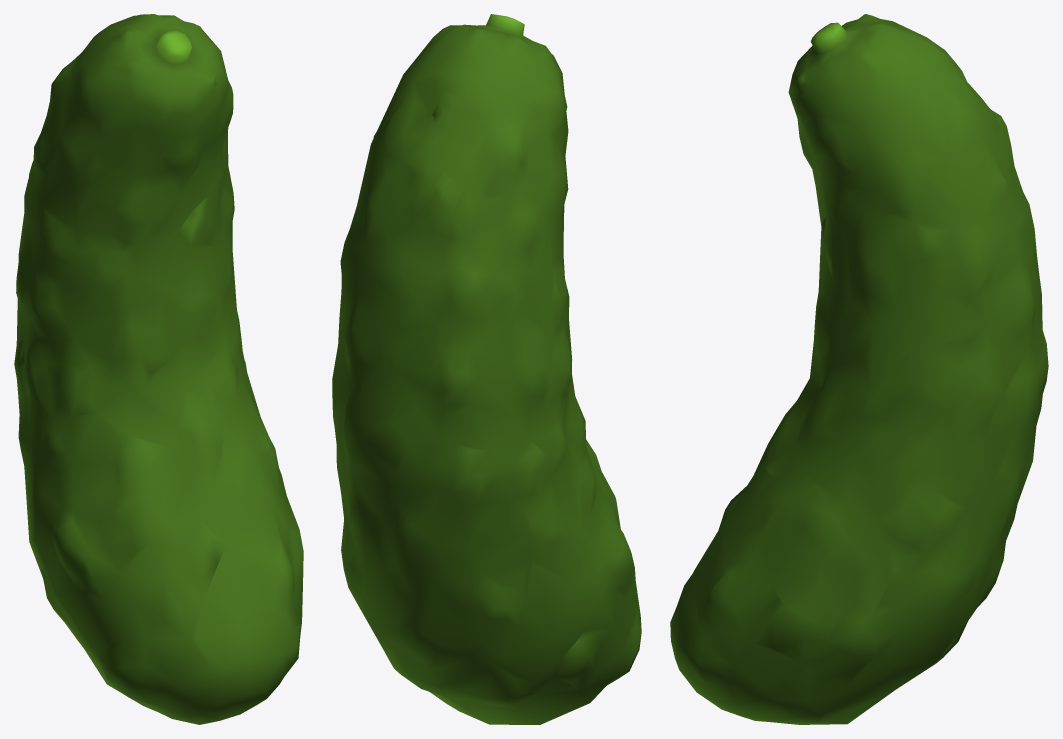
The model's file is Pickle.fbx.
The picture shows the model from 3 angles, left to right: view 1: azimuth 30°, elevation 25°; view 2: azimuth 150°, elevation 25°; view 3: azimuth 270°, elevation 25°; orthographic projection. The views are drawn at different scales.
Visible parts, largest first — view 1: Pickle; view 2: Pickle; view 3: Pickle.
Boxes of the visible parts, bbox=[...] form: Pickle: bbox=[14, 14, 303, 724]; Pickle: bbox=[332, 14, 641, 724]; Pickle: bbox=[670, 14, 1048, 724].
Size of the model in its own units: 4.68 by 12.63 by 6.29.
